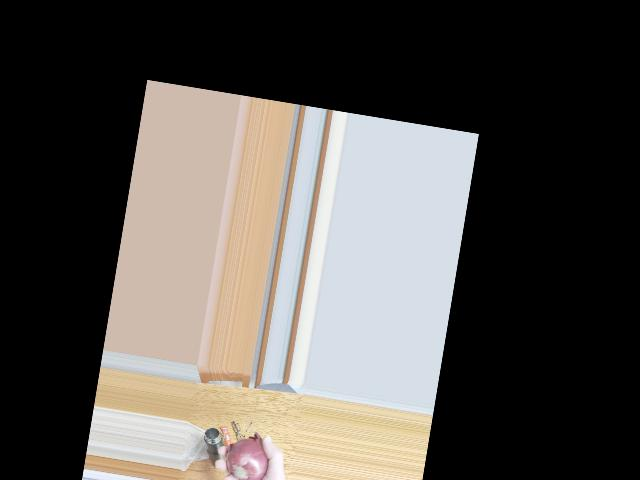onion: (224, 437, 271, 480)
